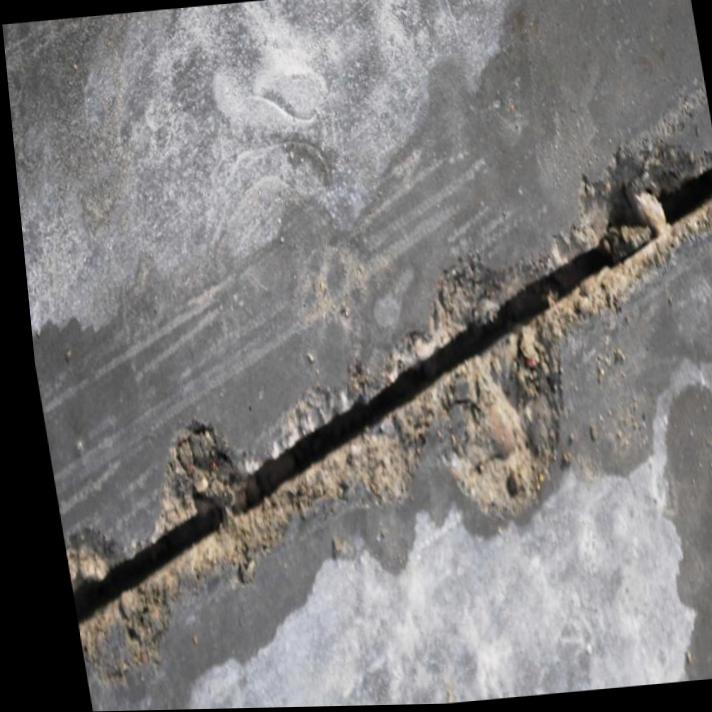damage: (54, 123, 712, 681)
